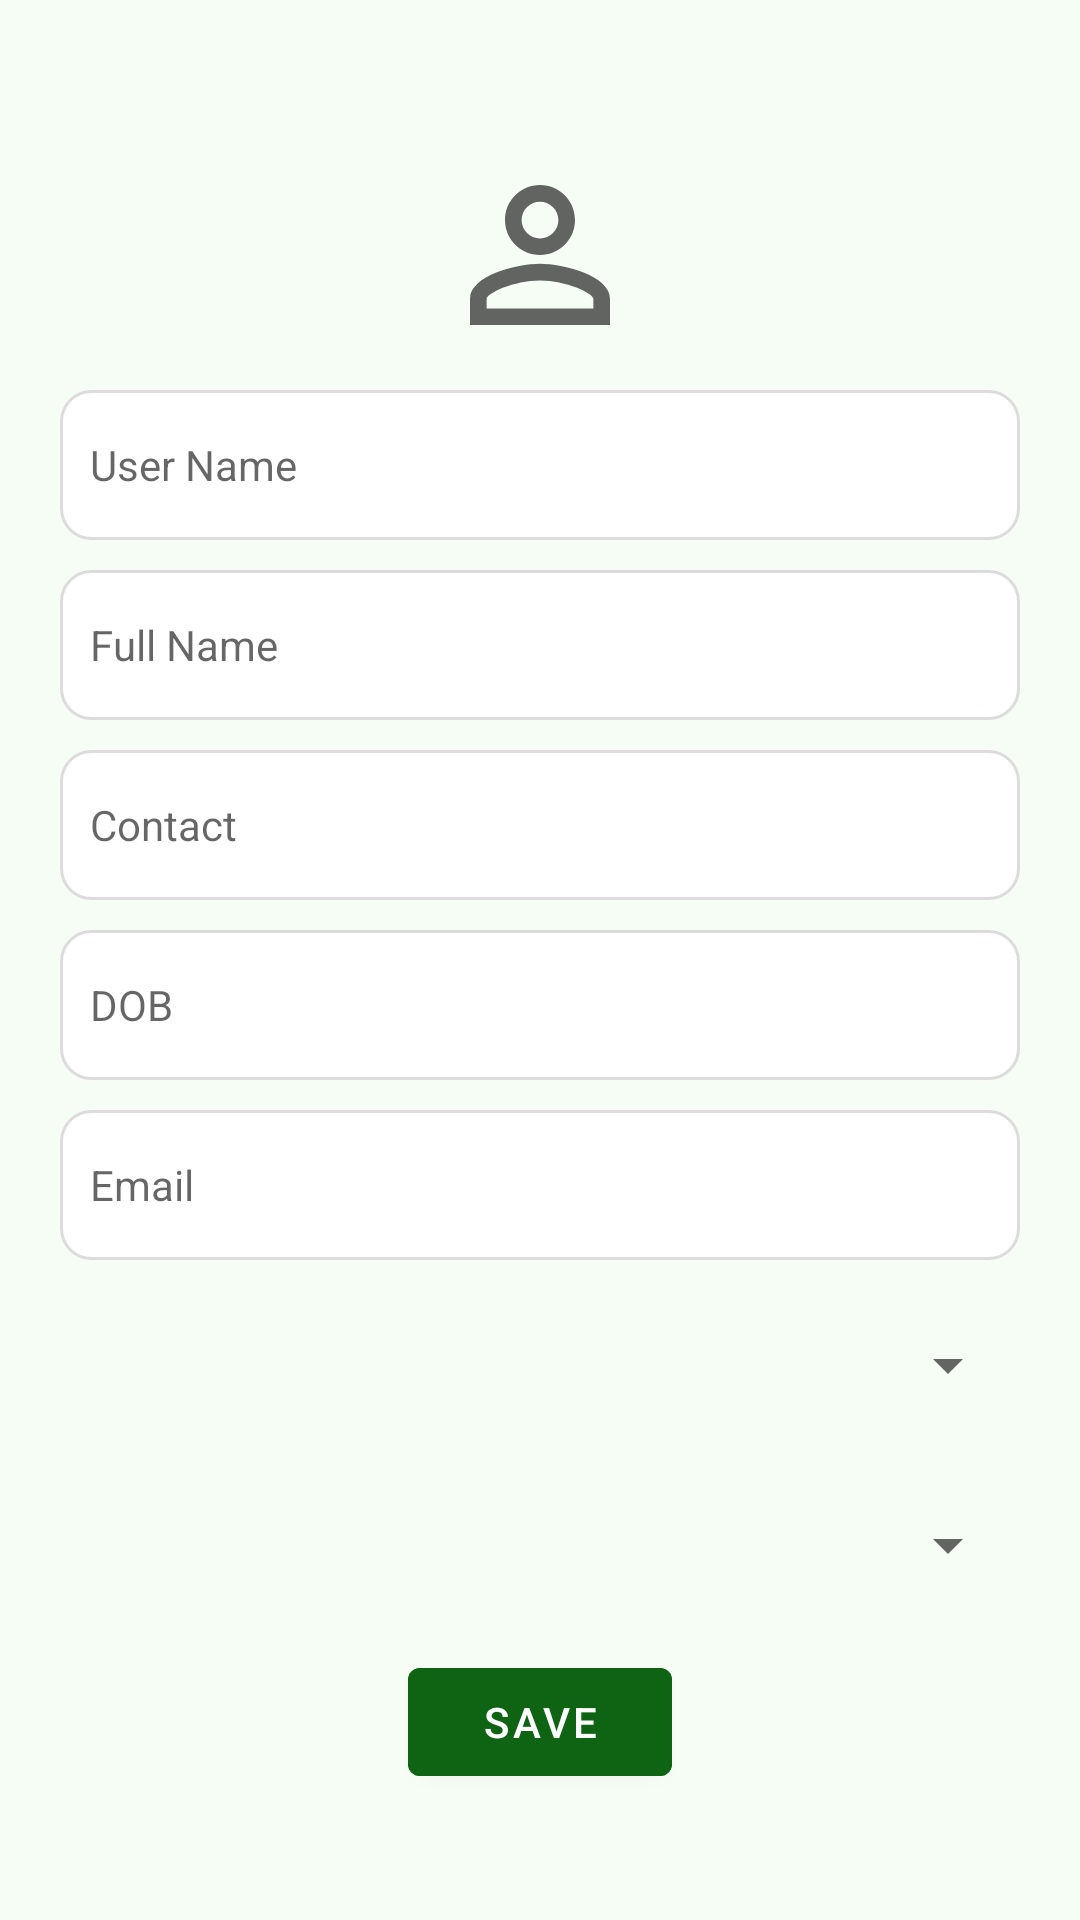

Where icons sit on this 1080×1920 app screen, as (x1,y1,x2,y2):
person: (470,185,610,325)
